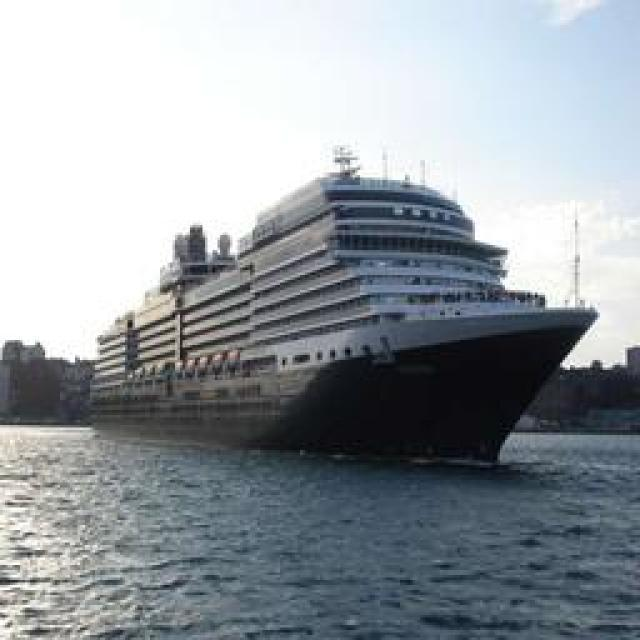ship2: (93, 143, 603, 464)
